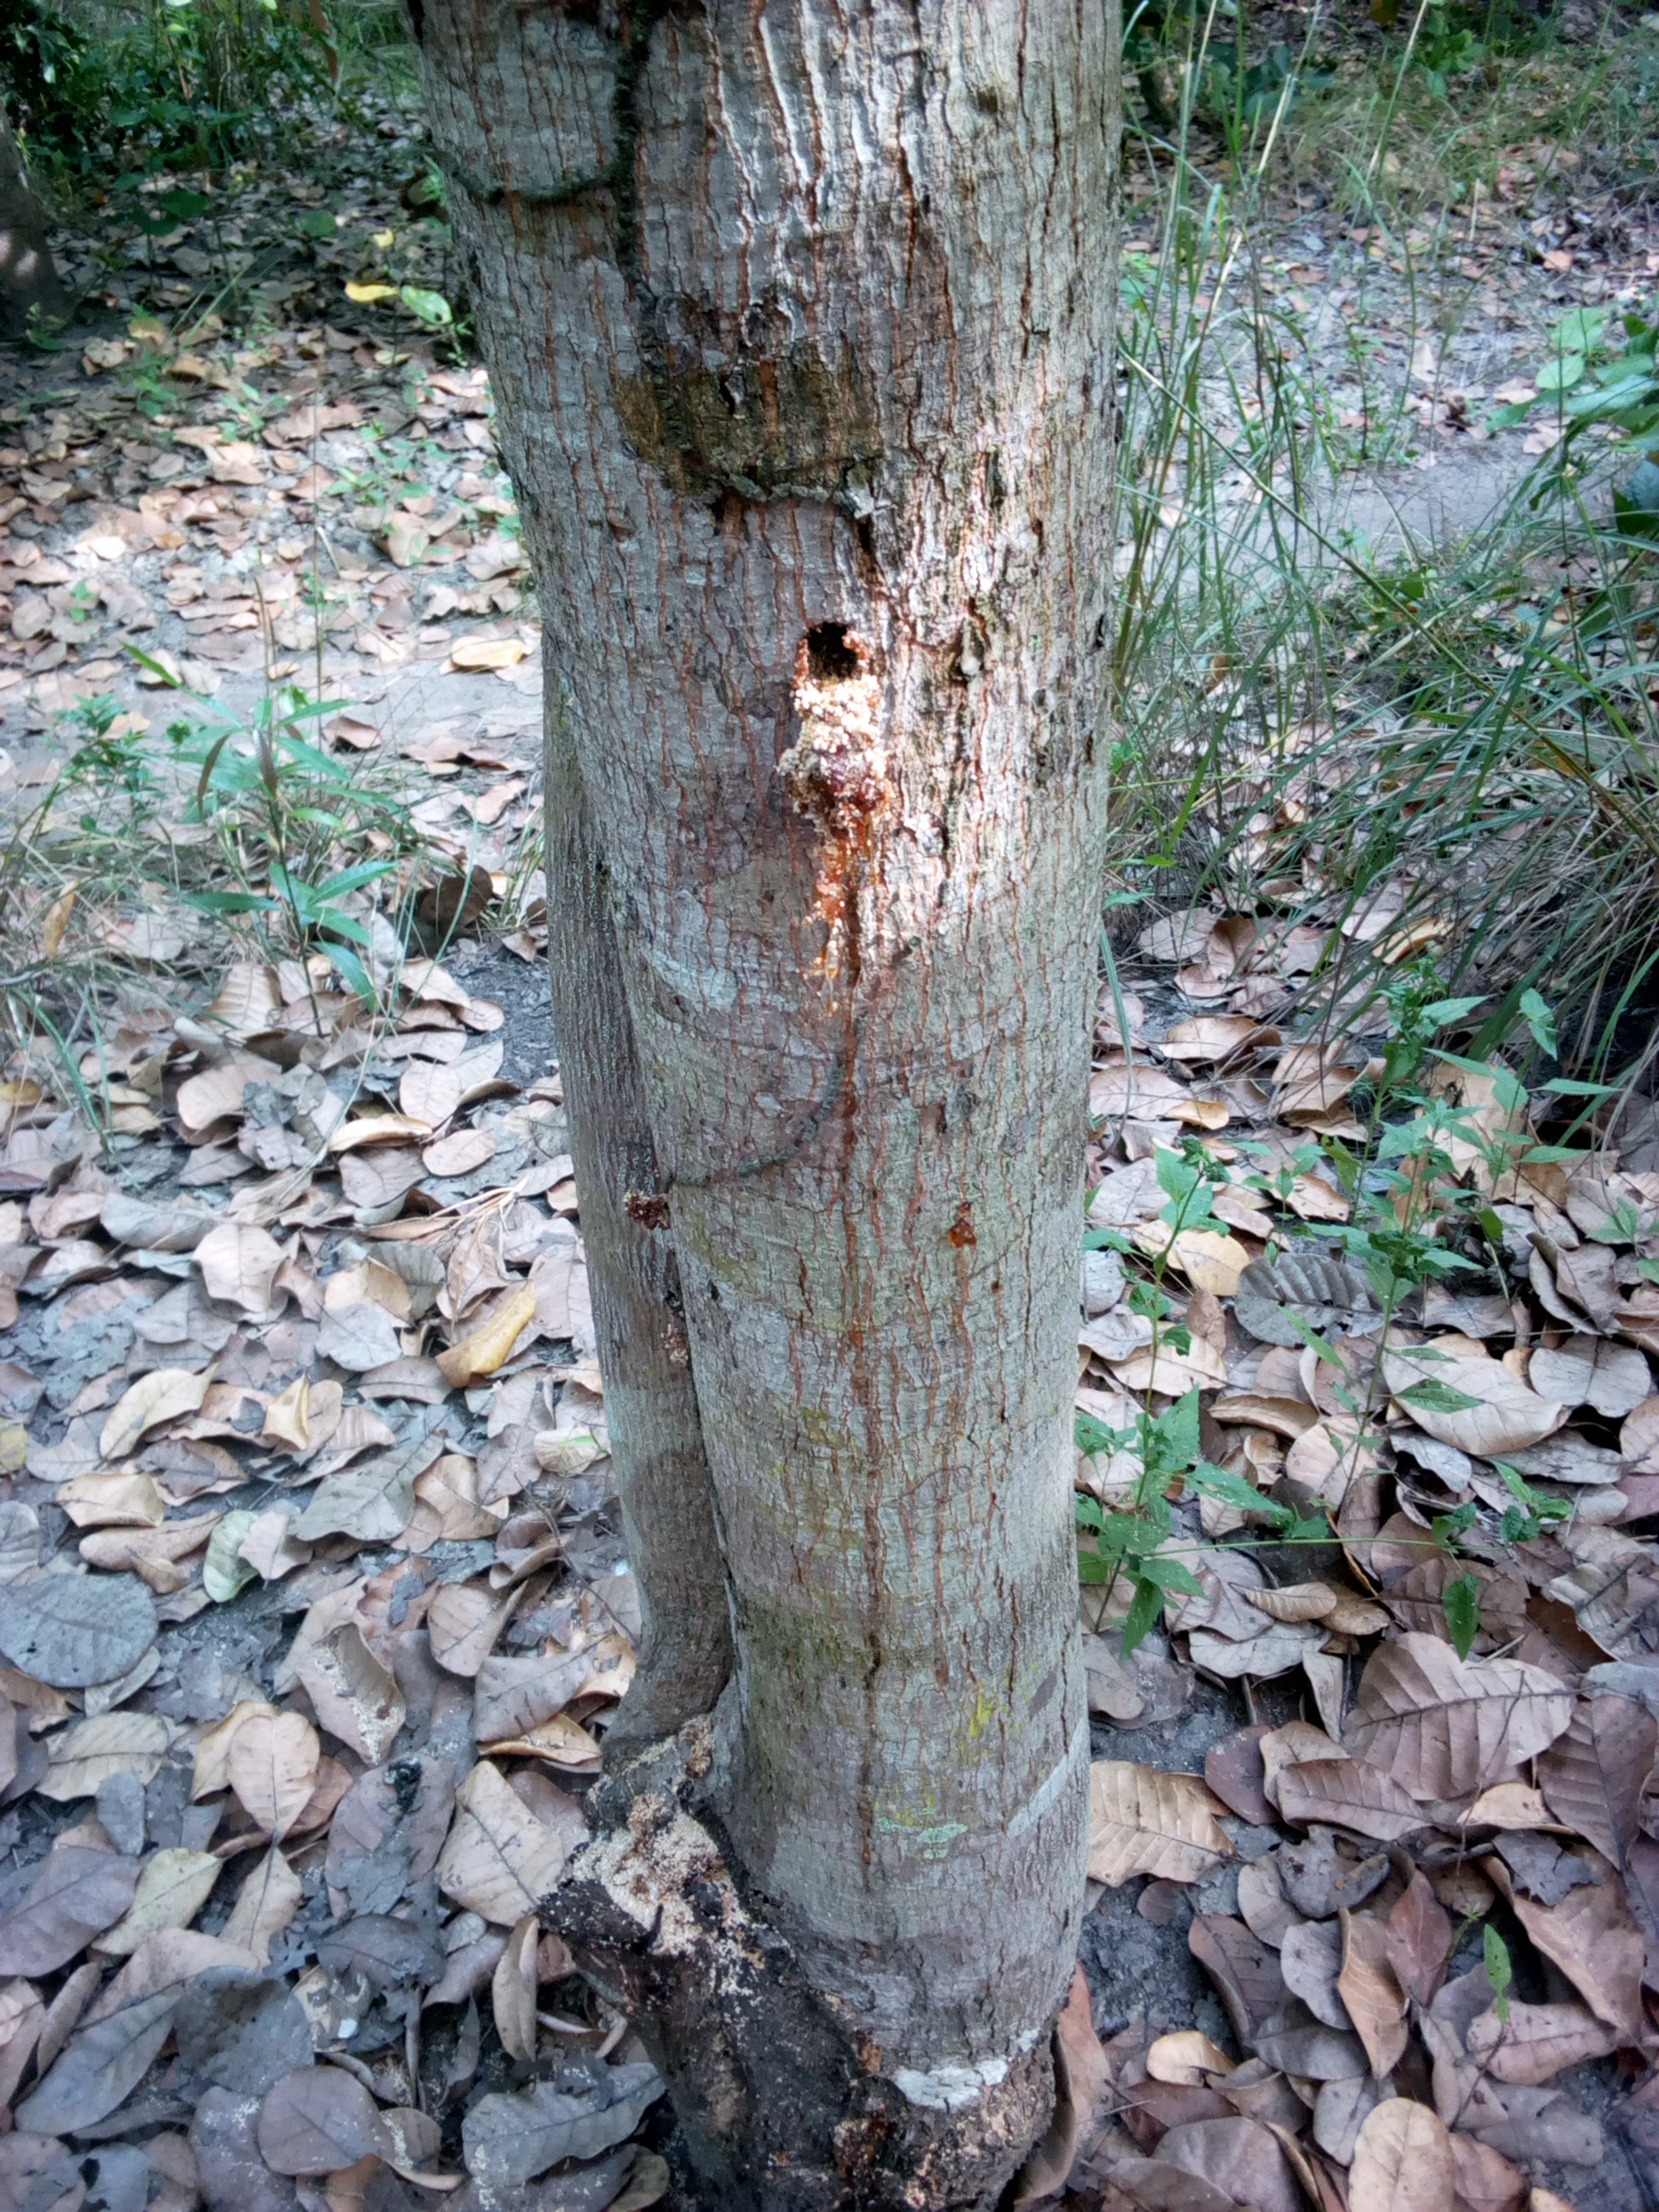Apate terebrans: (725, 590, 1002, 923)
